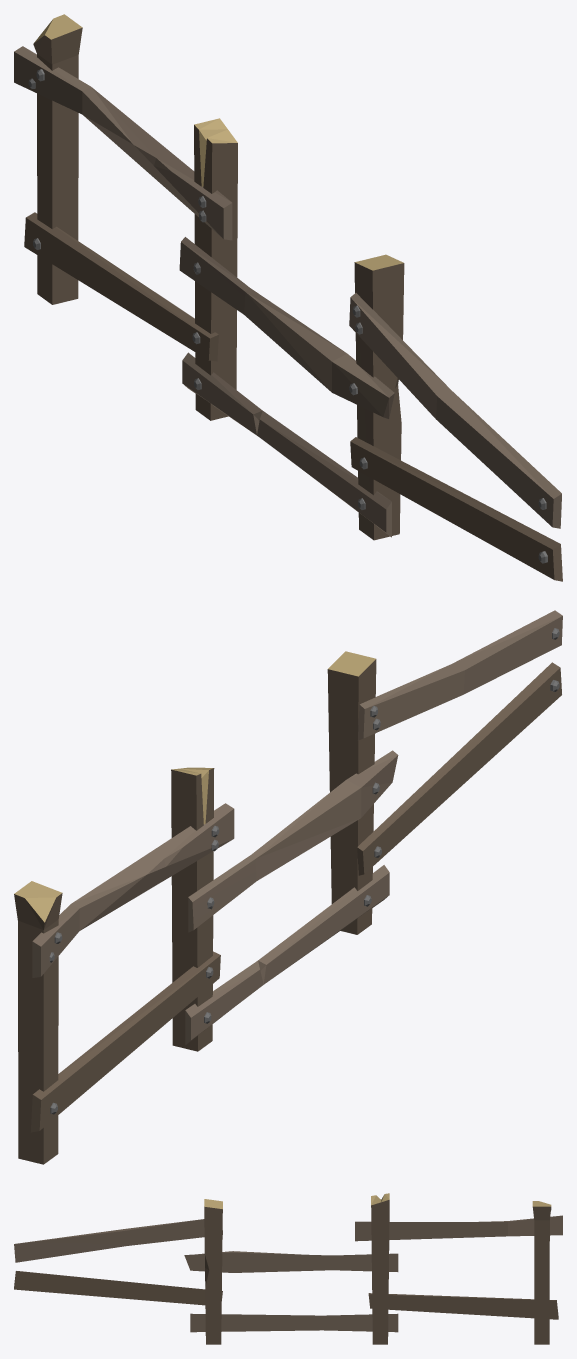
File: Fence_01.glb
3 views of the same model, one above another, from view 1: azimuth 30°, elevation 25°; view 2: azimuth 150°, elevation 25°; view 3: azimuth 270°, elevation 25° (orthographic). The views are drawn at different scales.
Visible parts, largest first — view 1: Fense_1; view 2: Fense_1; view 3: Fense_1.
Part boxes in pixels (x1,y1,x2,y2): Fense_1: (14, 14, 562, 581); Fense_1: (14, 610, 562, 1164); Fense_1: (14, 1193, 562, 1344).
Bounding box in the file's own units: 0.1734 × 1.05 × 3.6.
1 material, 1 textured.
